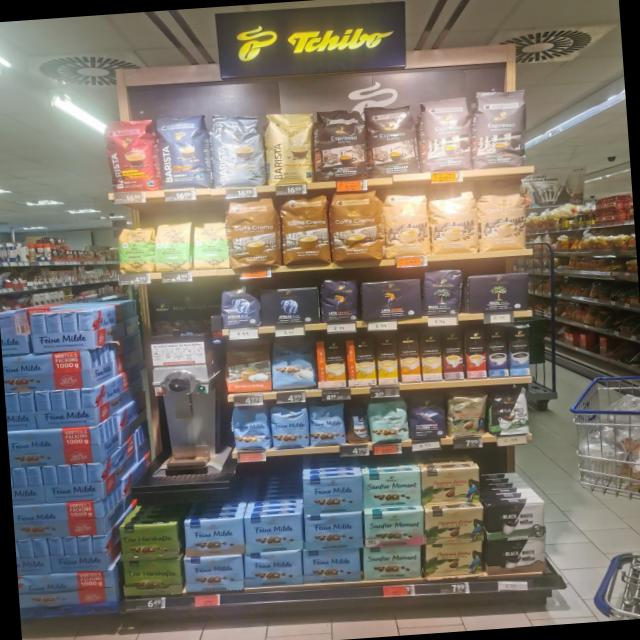AB Bohne: (218, 284, 260, 328)
AB Gemahlen: (258, 284, 320, 329)
Athiopien Bohne: (116, 222, 155, 274)
Athiopien Gemahlen: (153, 216, 194, 272), (189, 214, 229, 270)
BM Bohne: (422, 266, 466, 316)
BM Gemahlen: (465, 269, 533, 317)
BW Bohne: (489, 388, 532, 438)
BW Gemahlen: (486, 498, 548, 540), (485, 537, 548, 576)
Barista CB: (265, 110, 317, 186)
Barista CC: (210, 109, 268, 190)
Barista Espresso: (157, 113, 210, 192)
Barista Kolumbien: (102, 116, 160, 194)
C Fino Bohne: (407, 392, 448, 442)
CC Mild: (474, 179, 526, 253), (427, 180, 479, 254), (381, 184, 432, 257)
CC Vollmundig: (224, 337, 273, 394)
CC Vollmundig 36 Pads: (222, 194, 280, 270), (328, 185, 384, 263), (277, 192, 331, 265)
Colombia BB Bohne: (448, 391, 490, 438)
Colombia BB Gemahlen: (424, 505, 486, 544), (422, 464, 482, 504), (425, 540, 484, 577)
Espresso Aromatisch: (470, 85, 529, 168), (418, 96, 472, 172)
Espresso Kraftig: (362, 102, 420, 176), (313, 105, 367, 181)
FM 36 Pads: (270, 334, 318, 391)
FM Bohne: (268, 402, 310, 449), (230, 404, 270, 452), (306, 400, 346, 447)
FM Gemahlen: (182, 516, 245, 557), (242, 512, 303, 554), (183, 553, 245, 594), (302, 510, 364, 551), (242, 548, 304, 588), (302, 474, 364, 514), (302, 546, 362, 584)
FM Instant: (344, 402, 370, 444)
Herzhatfe Mundig: (118, 520, 180, 562), (121, 558, 183, 598)
LG Bohne: (318, 274, 361, 324)
LG Gemahlen: (361, 278, 424, 323)
SM Bohne: (366, 398, 409, 444)
SM Gemahlen: (364, 508, 425, 549), (363, 468, 423, 508), (362, 543, 423, 581)
Simo CCMild: (344, 338, 376, 387)
Simo CCMild bigpack: (376, 336, 399, 386)
Simo CCVollmundig: (316, 338, 346, 388)
Simo CCVollmundig bigpack: (398, 333, 422, 383)
Simo Decaff: (420, 332, 443, 382)
Simo Es Brazil: (463, 329, 488, 380)
Simo Es Caramel: (440, 328, 464, 381)
Simo Es Kraft: (485, 326, 509, 376)
Simo Es Vanilla: (508, 326, 530, 376)
